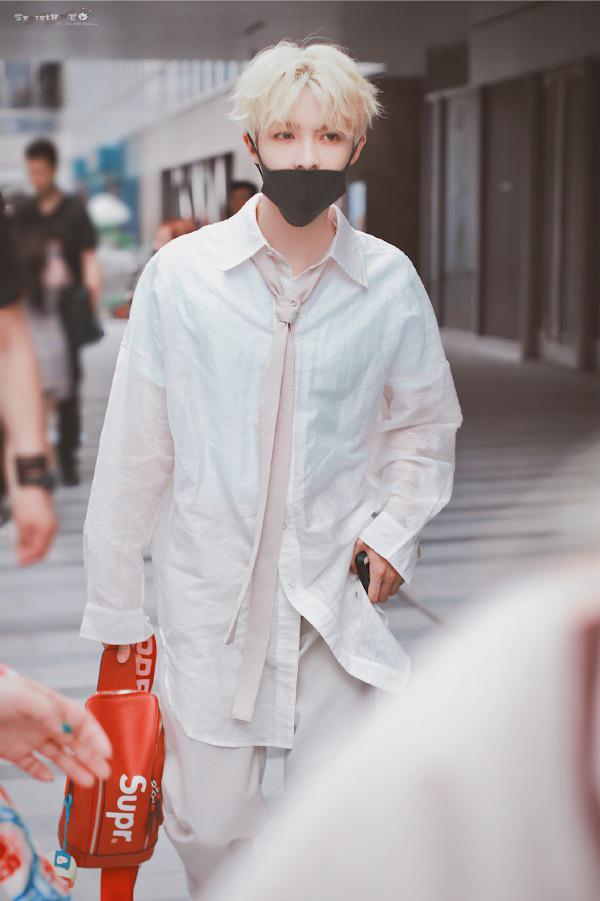WRONG: (259, 108, 353, 226)
